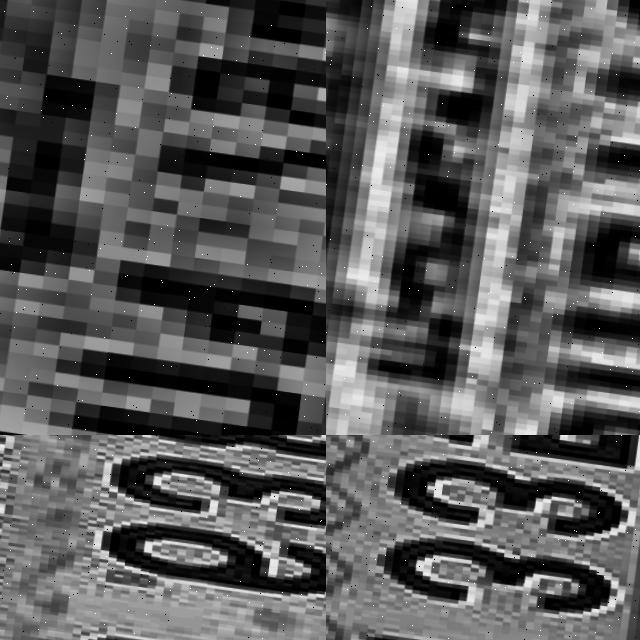license-plate: (0, 0, 326, 435), (326, 0, 640, 435), (0, 435, 326, 640), (326, 435, 640, 640)
